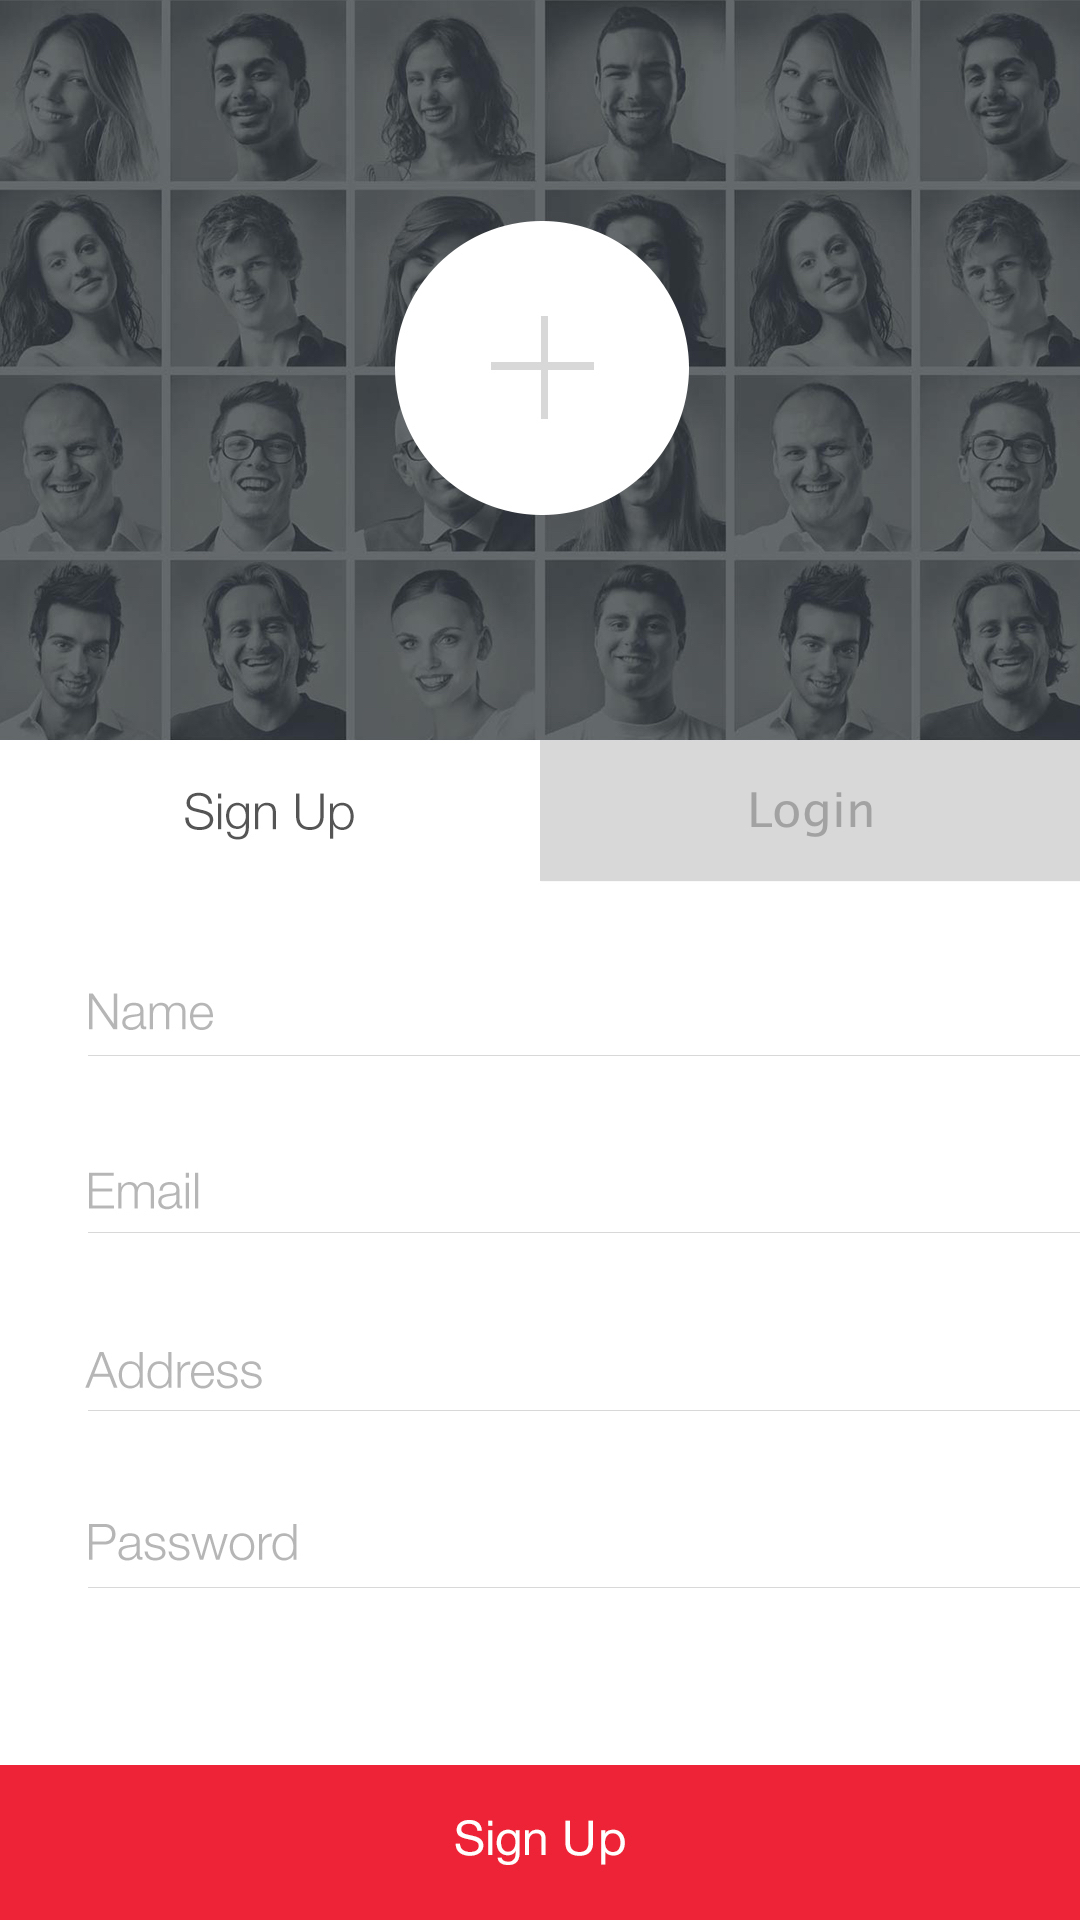EditText: (88, 1523, 1080, 1589), (88, 993, 1080, 1058), (88, 1171, 1080, 1234), (84, 1352, 1080, 1412)
Icon: (394, 222, 690, 517)
Image: (1, 1, 1080, 741)
Text: (185, 791, 356, 843), (88, 1523, 299, 1563), (86, 1352, 264, 1391), (88, 993, 215, 1031), (88, 1171, 200, 1211)
TextButton: (1, 1764, 1080, 1920), (541, 741, 1080, 882)
